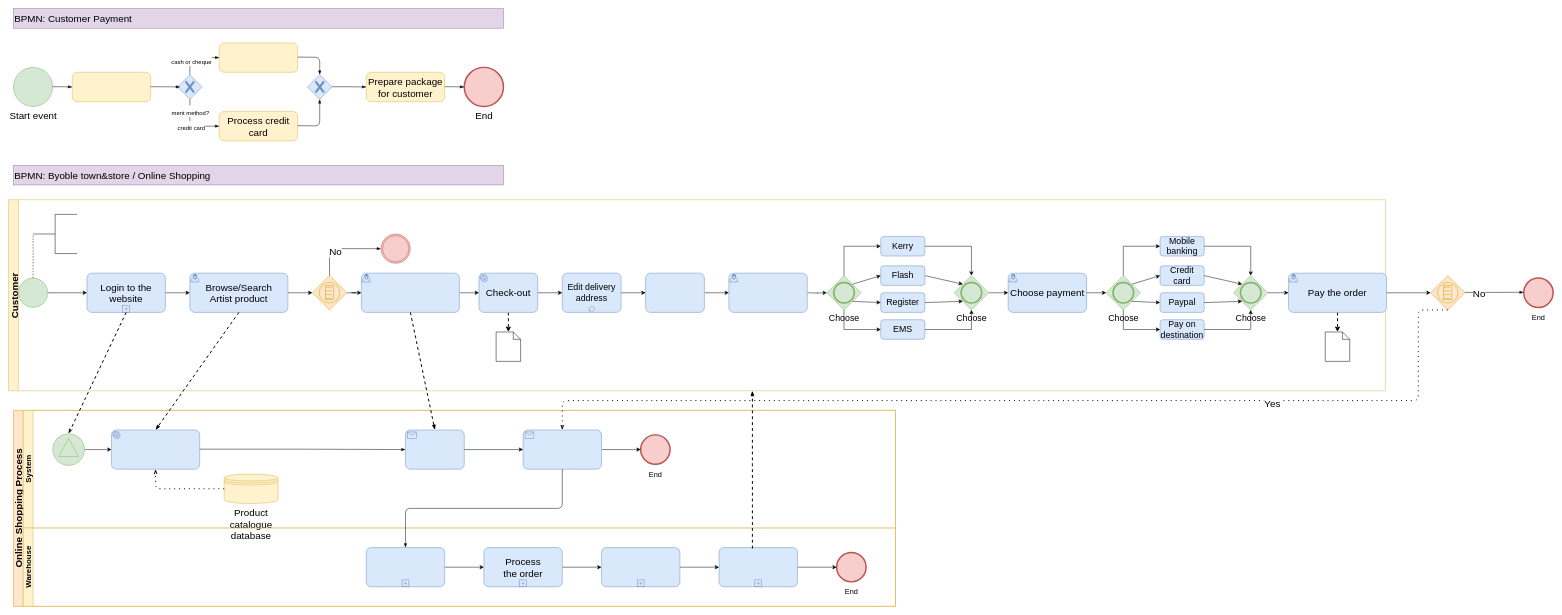
The diagram is 1562 pixels wide and 615 high, and some of its shapes have lost their labels. The shapes that lost their labels are listed below. From the top down, each one's centre as x and y in pixels, then its label:
At [258,57]: "Accept cash or cheque".
At [111,87]: "Identify payment method".
At [55,234]: "Customers enter the shopping portal".
At [33,292]: "Start".
At [329,292]: "Artist products available?".
At [410,292]: "Add items to cart".
At [674,292]: "Final address".
At [767,292]: "Choose shipping".
At [1447,292]: "Payment success?".
At [508,346]: "Shopping cart".
At [1337,346]: "Payment receipt".
At [155,449]: "Display the product details as result".
At [434,449]: "Manage cart".
At [562,449]: "Register the order".
At [405,567]: "Receive the order".
At [640,567]: "shop the order".
At [758,567]: "Send acknowledgment".
